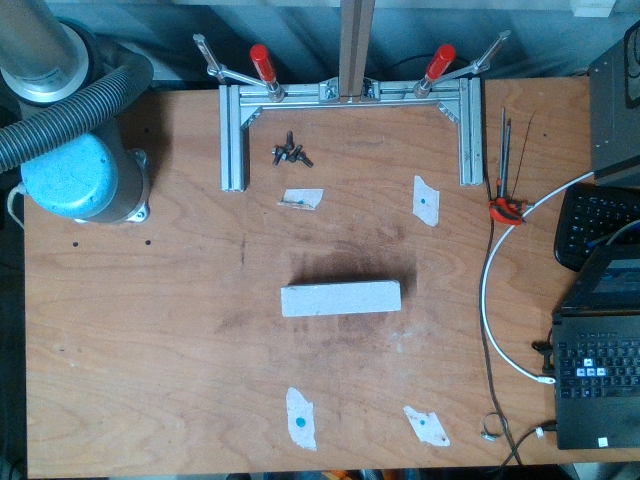brick-side: (281, 280, 401, 318)
